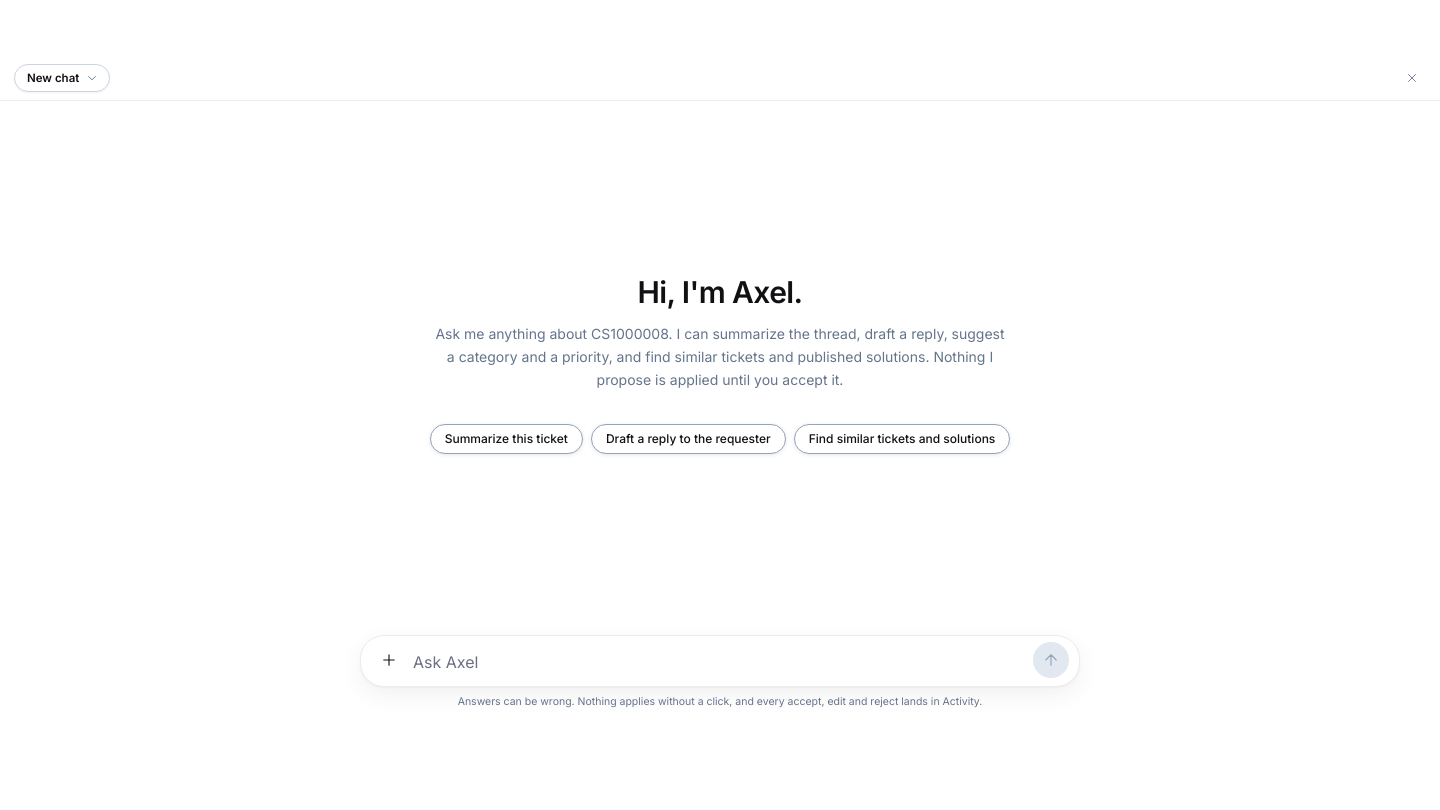
AxelChat › says what an error frame said rather than failing silently
Type "Summarise this" into the text box labelled "Ask Axel" at point(720, 662), box [413,644,1027,680]
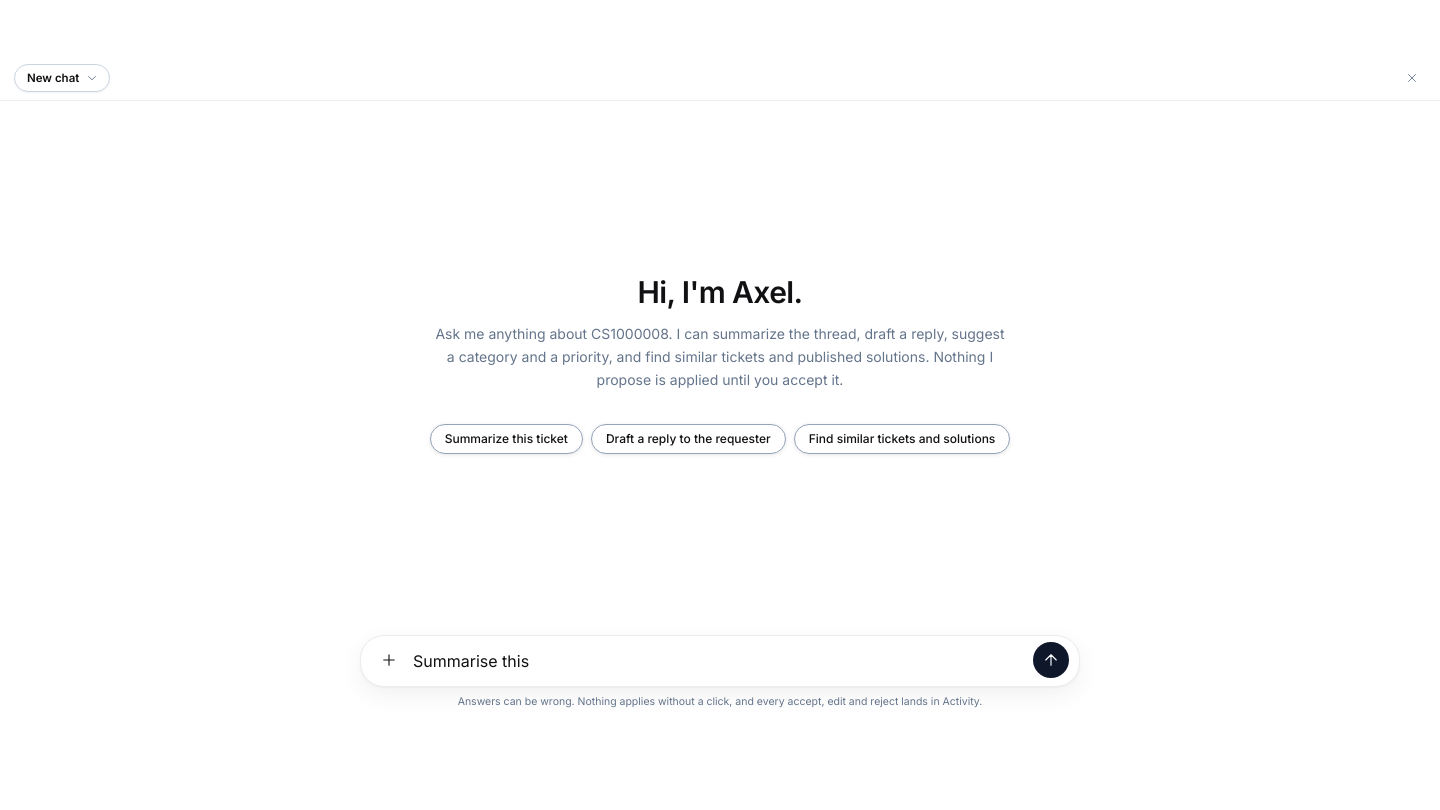
Click the button named "Send" at point(1051, 660), box [1033,642,1069,678]
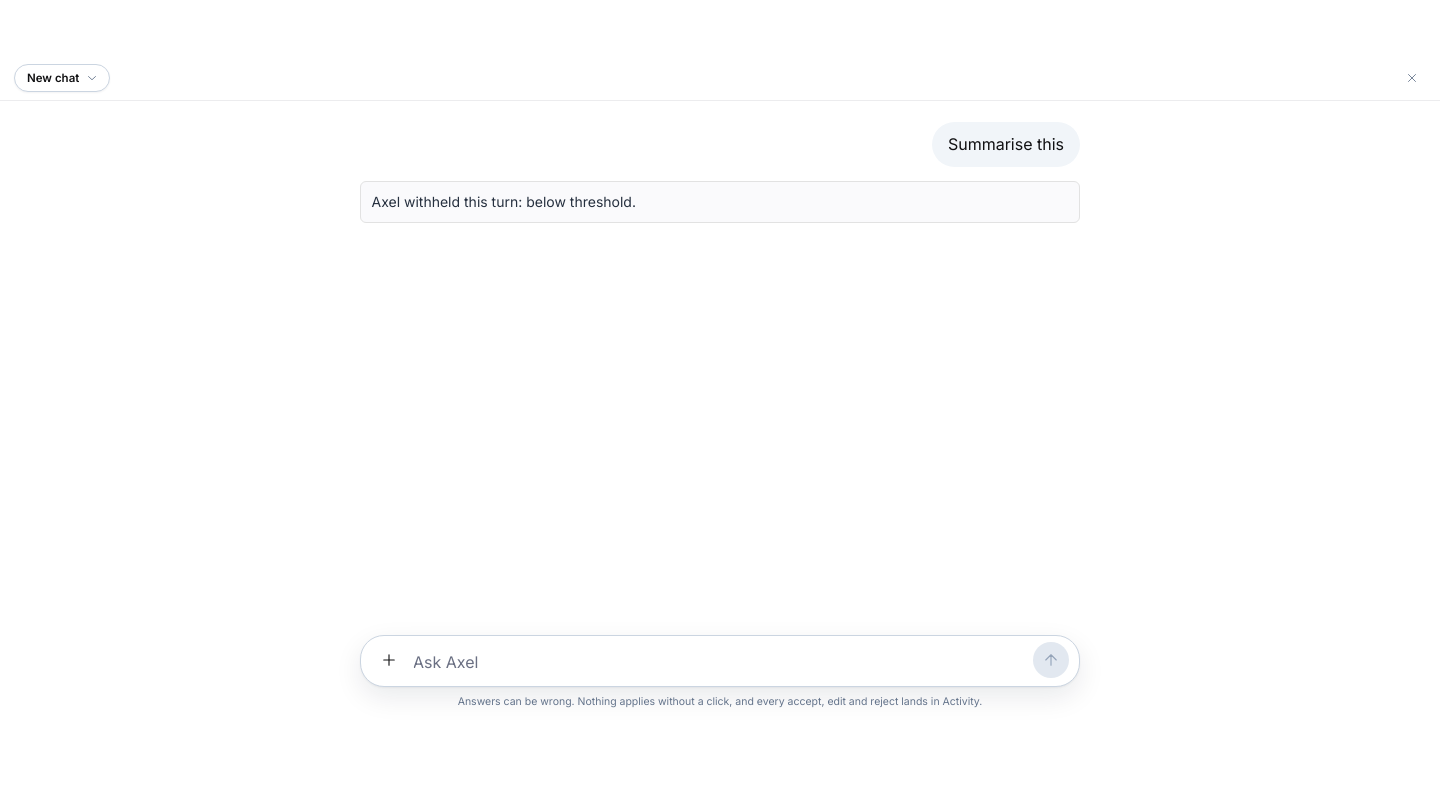
expect the text "Axel withheld this turn: below threshold." is shown: met, box [360,181,1080,223]
